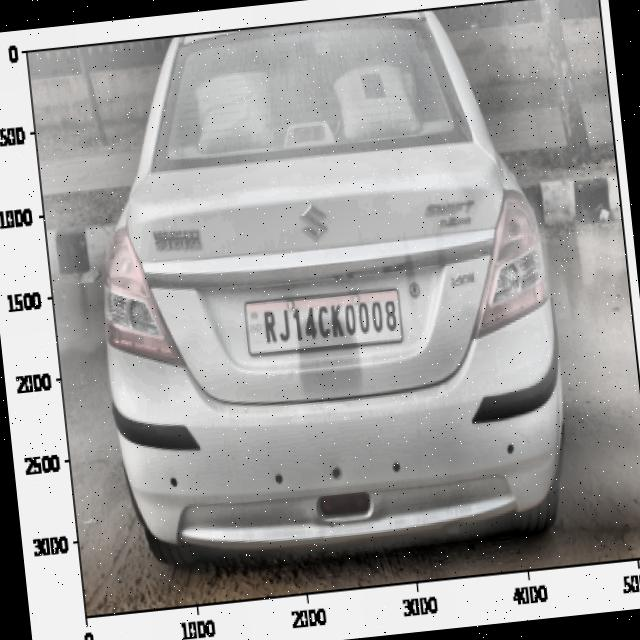license_plate: (256, 288, 404, 356)
